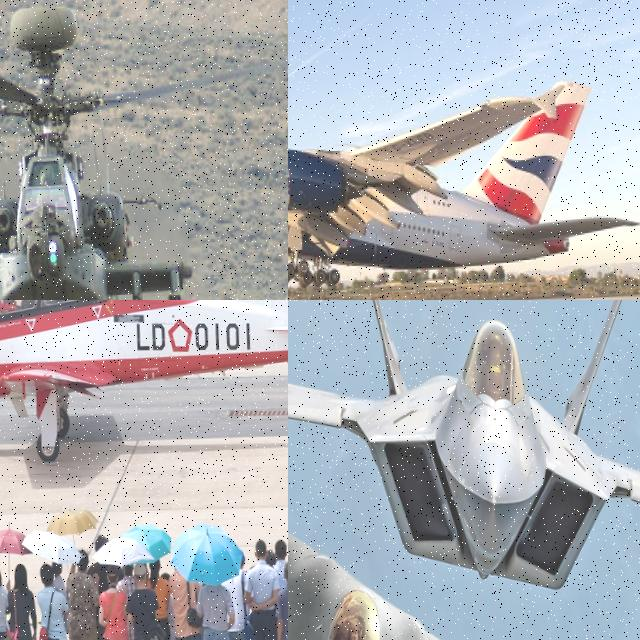A380: (288, 75, 640, 300)
Apache: (0, 1, 245, 300)
F22: (288, 300, 640, 602)
KT-1: (0, 300, 288, 474)
